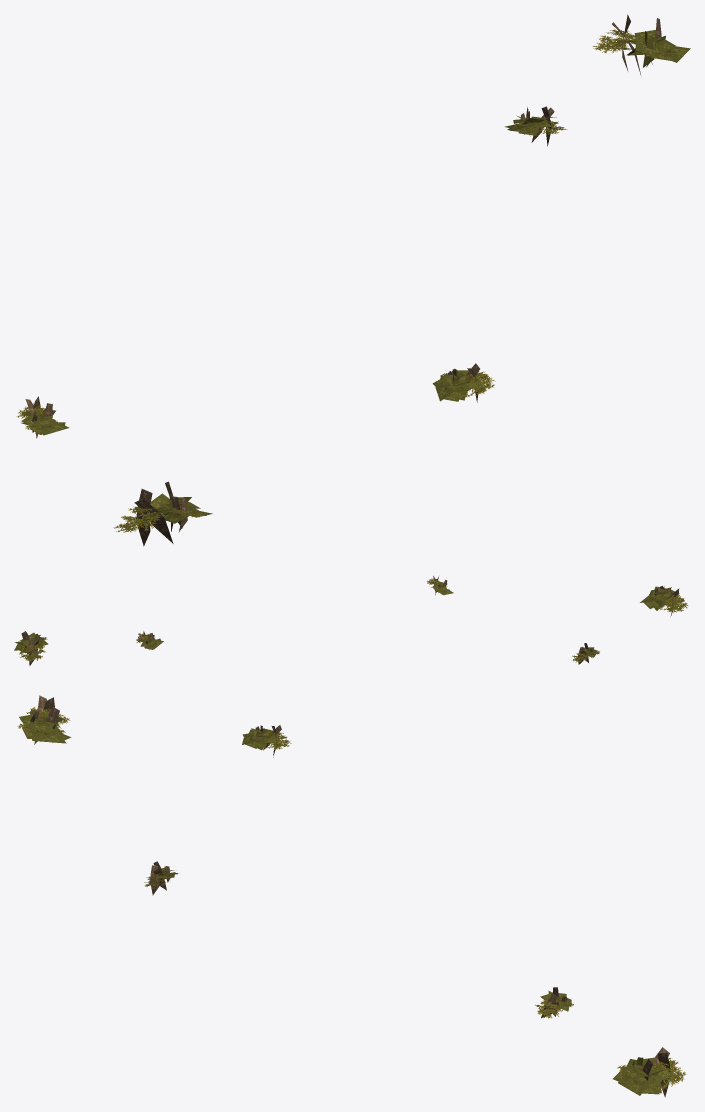
The model's file is S_Tree_Yellow058_A.FBX.
The picture shows the model from 3 angles, top to bottom: view 1: azimuth 30°, elevation 25°; view 2: azimuth 150°, elevation 25°; view 3: azimuth 270°, elevation 25°; orthographic projection. The views are drawn at different scales.
Parts seen in each view (by area): view 1: S_Tree_Yellow058_002, S_Tree_Yellow058_004, S_Tree_Yellow058_003, S_Tree_Yellow058_001, S_Tree_Yellow058_005; view 2: S_Tree_Yellow058_002, S_Tree_Yellow058_004, S_Tree_Yellow058_005, S_Tree_Yellow058_001, S_Tree_Yellow058_003; view 3: S_Tree_Yellow058_004, S_Tree_Yellow058_002, S_Tree_Yellow058_001, S_Tree_Yellow058_005.
Part boxes in pixels (bbox=[...]): S_Tree_Yellow058_002: bbox=[113, 481, 212, 546]; S_Tree_Yellow058_004: bbox=[592, 14, 690, 74]; S_Tree_Yellow058_003: bbox=[432, 363, 495, 402]; S_Tree_Yellow058_001: bbox=[16, 396, 69, 438]; S_Tree_Yellow058_005: bbox=[504, 106, 567, 146]; S_Tree_Yellow058_002: bbox=[640, 586, 687, 616]; S_Tree_Yellow058_004: bbox=[14, 631, 48, 665]; S_Tree_Yellow058_005: bbox=[136, 631, 163, 649]; S_Tree_Yellow058_001: bbox=[572, 643, 599, 664]; S_Tree_Yellow058_003: bbox=[427, 576, 453, 595]; S_Tree_Yellow058_004: bbox=[613, 1047, 686, 1097]; S_Tree_Yellow058_002: bbox=[17, 695, 71, 744]; S_Tree_Yellow058_001: bbox=[242, 725, 291, 757]; S_Tree_Yellow058_005: bbox=[535, 987, 573, 1018].
Bounding box in the file's own units: 13828 × 1133 × 10744.
